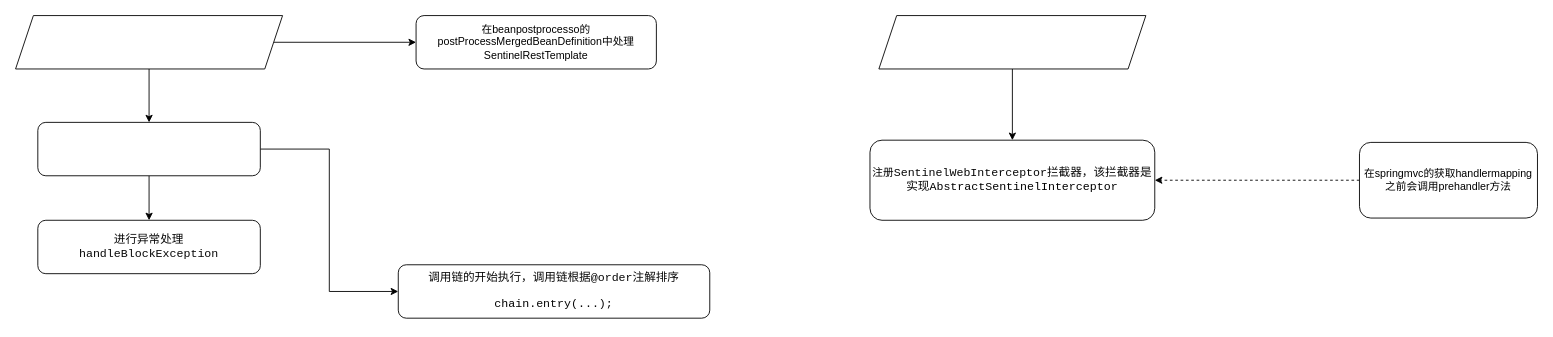
The diagram is 1553 pixels wide and 337 high, and some of its shapes have lost their labels. Each missing label, with the centre of its shape:
"SentinelAutoConfiguration.class 注册 SentinelResourceAspect切面bean" belongs at point (149, 42).
"SentinelWebAutoConfiguration.class" belongs at point (1012, 42).
"进行资源校验 entry = SphU.entry();" belongs at point (148, 148).
